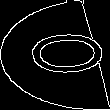O_E: (6, 30, 104, 80)
